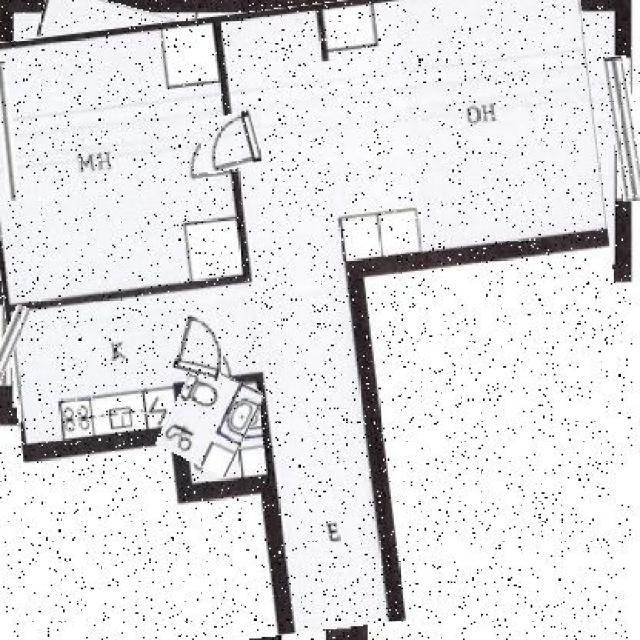door: (198, 111, 270, 171), (175, 316, 228, 378)
window: (606, 55, 640, 200), (0, 62, 14, 200), (0, 304, 20, 388)
zone: (0, 0, 632, 640), (0, 0, 263, 280), (163, 368, 257, 470)
